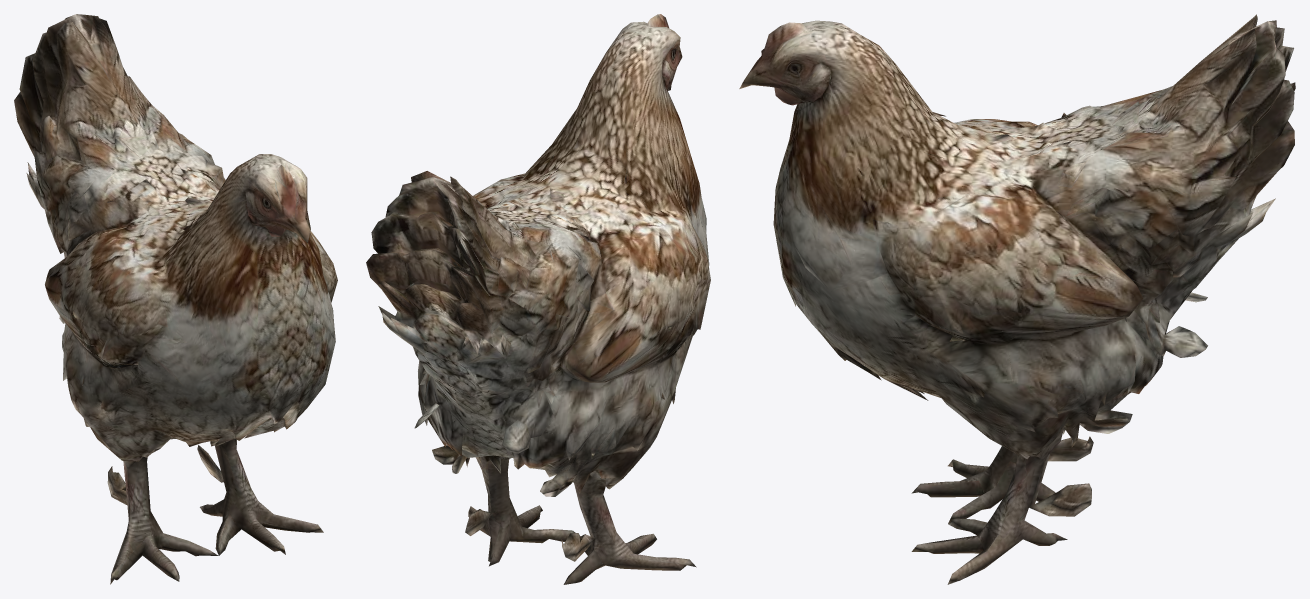
File: chicken.glb
3 views of the same model, side by side, from view 1: azimuth 30°, elevation 25°; view 2: azimuth 150°, elevation 25°; view 3: azimuth 270°, elevation 25° (orthographic). The views are drawn at different scales.
Parts seen in each view (by area): view 1: Mesh_0; view 2: Mesh_0; view 3: Mesh_0.
Boxes of the visible parts, x1=… form: Mesh_0: x1=14, y1=14, x2=337, y2=584; Mesh_0: x1=366, y1=14, x2=710, y2=584; Mesh_0: x1=739, y1=14, x2=1295, y2=584.
Size of the model in its own units: 1.02 by 1.89 by 1.88.
Materials: 1 (1 with a texture image).
